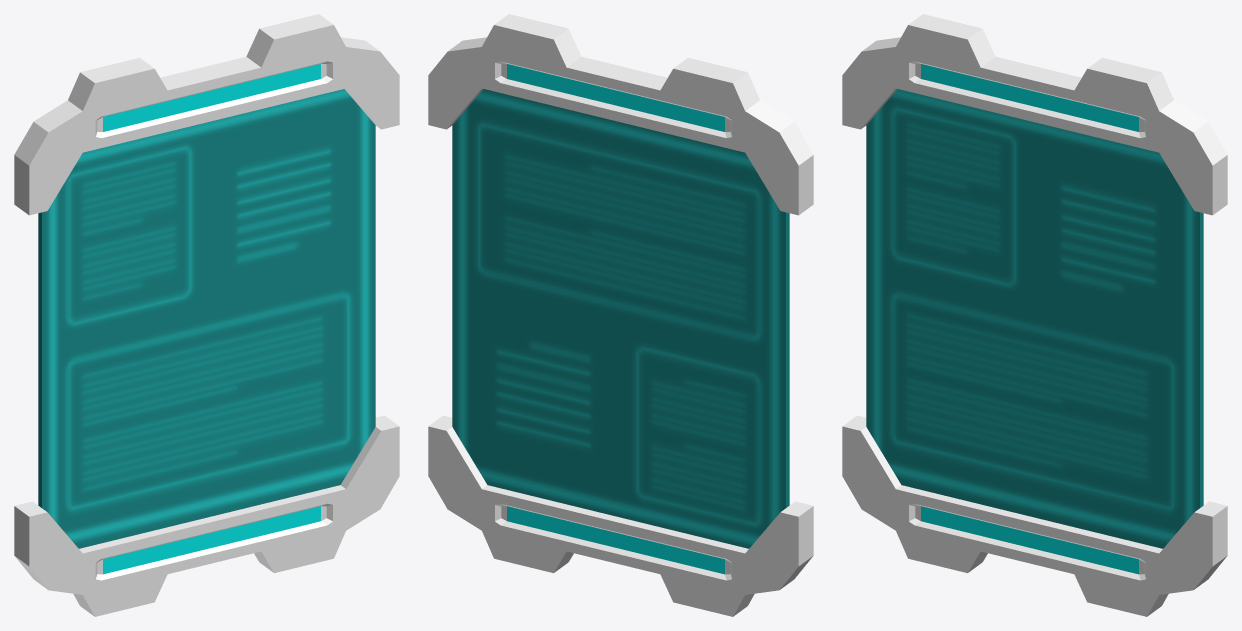
The model's file is Datapad_White_01.fbx.
3 views of the same model, side by side, from view 1: azimuth 30°, elevation 25°; view 2: azimuth 150°, elevation 25°; view 3: azimuth 330°, elevation 25° (orthographic).
Visible parts, largest first — view 1: Datapad_White_01; view 2: Datapad_White_01; view 3: Datapad_White_01.
Boxes of the visible parts, x1,y1,x2,y2 form: Datapad_White_01: [14, 14, 399, 616]; Datapad_White_01: [428, 14, 813, 616]; Datapad_White_01: [842, 14, 1227, 616].
Size of the model in its own units: 15.08 by 20.76 by 1.06.
